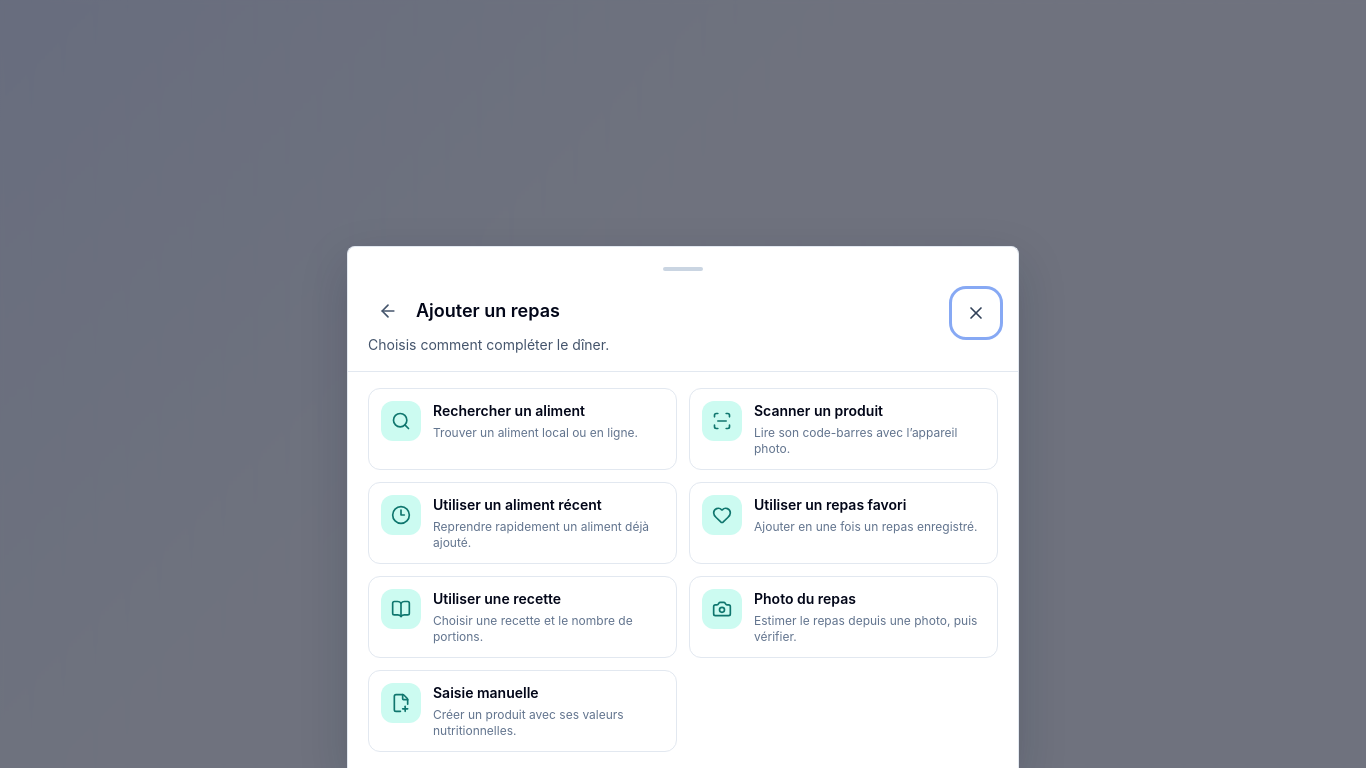
Test: FoodJournalAddSheet › synchronise overview, methodes et retour au repas
Click the button named "Retour au repas": (388,311) [368,291,408,331]
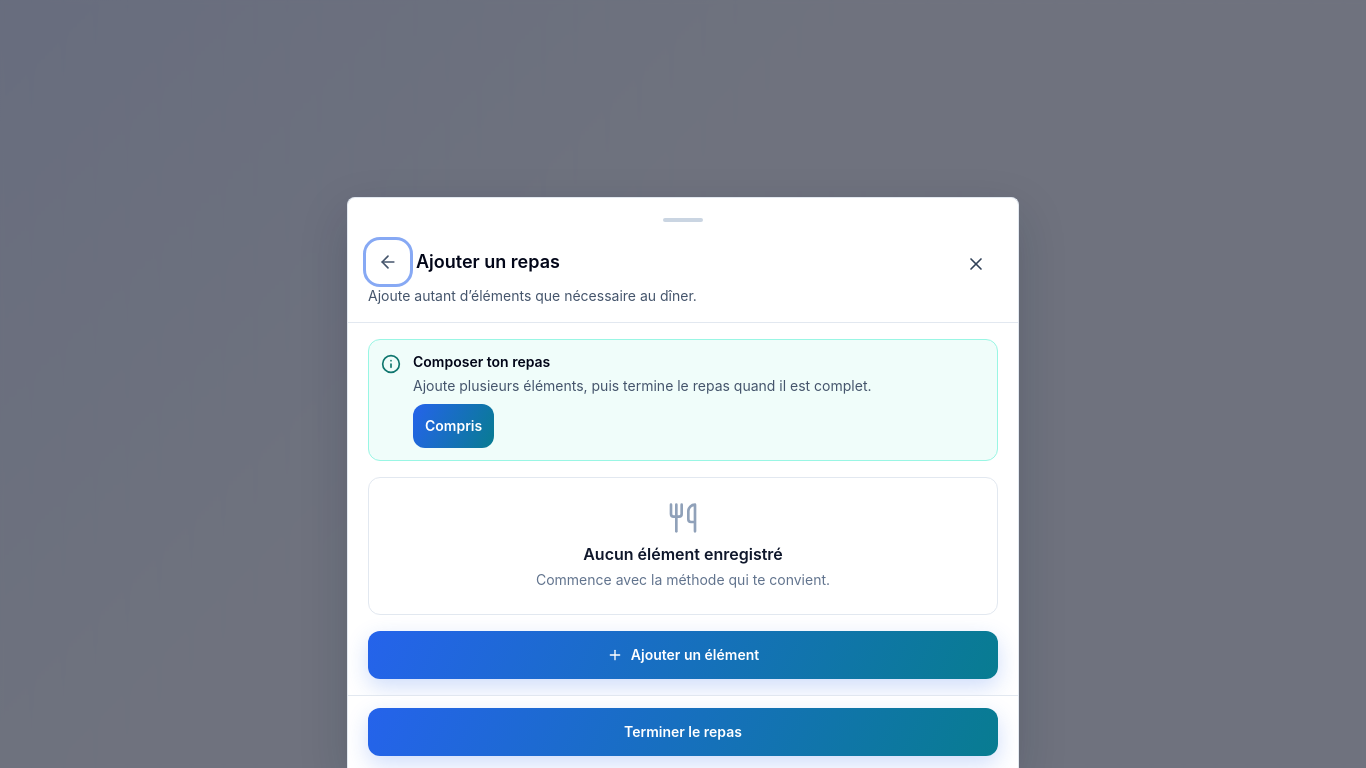
Now the button "Terminer le repas" is shown, box [368,708,998,756]
Click the button named "Choisir un autre repas": (388,262) [368,242,408,282]
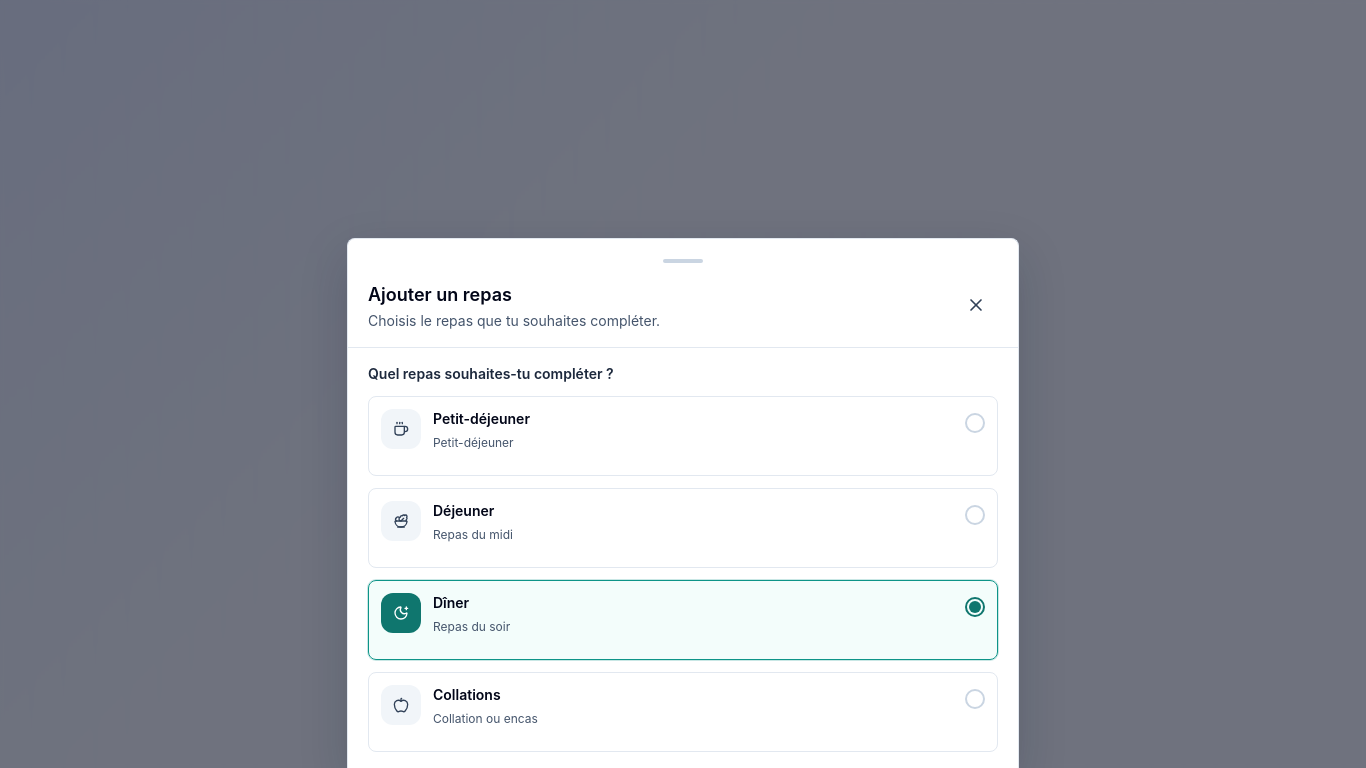
Now the radio button labelled "Dîner Repas du soir" is checked, box [368,580,998,660]
